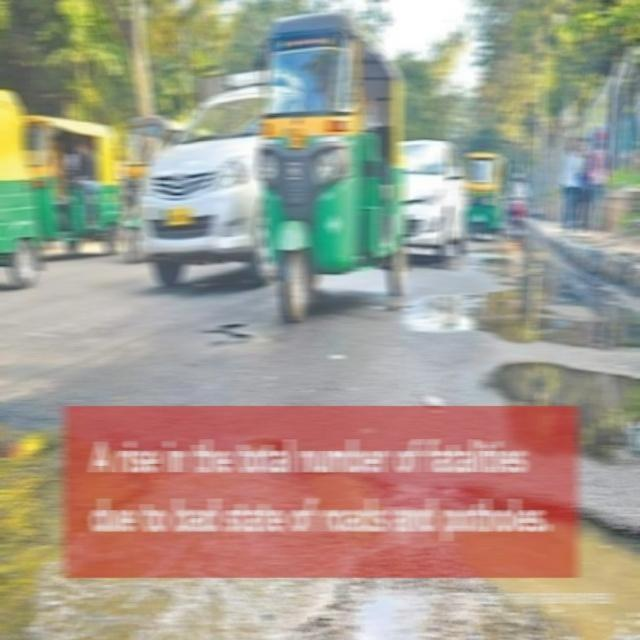Pothole: (472, 485, 640, 640), (480, 349, 640, 469), (465, 243, 639, 346), (4, 410, 55, 640), (63, 573, 187, 640), (212, 315, 250, 347)
